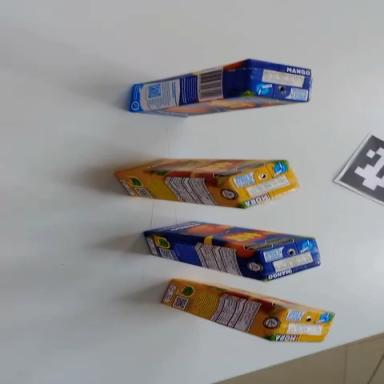HIT-MANGO: (122, 52, 315, 123), (139, 215, 323, 288)
HIT-MORA: (159, 272, 335, 354), (115, 158, 299, 208)
cara_F: (143, 214, 313, 259), (174, 274, 335, 321), (135, 88, 306, 123), (116, 158, 283, 178)
